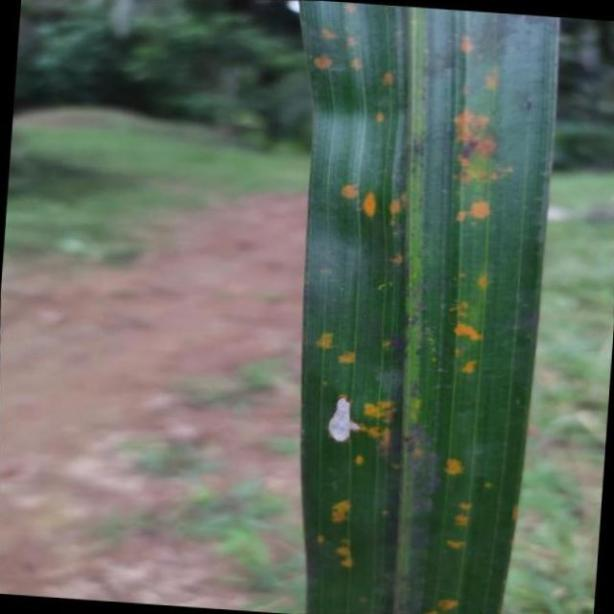Kalium: (300, 3, 560, 614)
